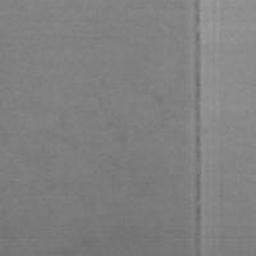Welding line: (195, 0, 201, 256)
